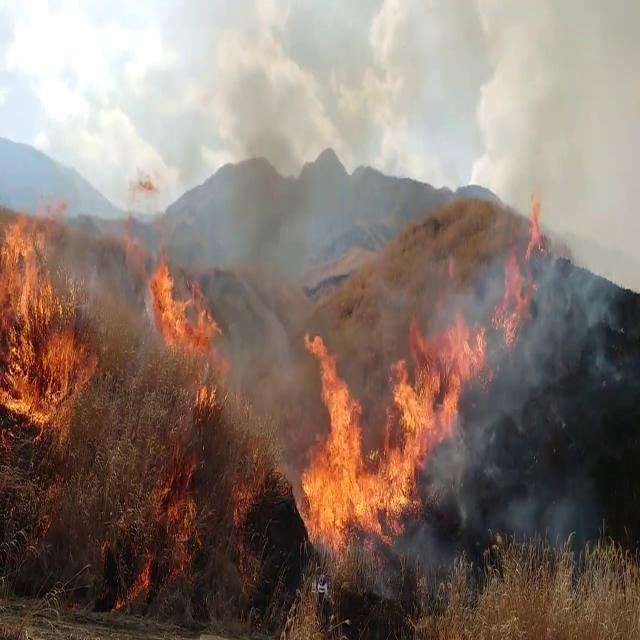Fire: (286, 323, 410, 584), (0, 199, 96, 429), (386, 289, 488, 489), (145, 238, 226, 408), (496, 184, 548, 348)
Smoke: (174, 0, 446, 410), (456, 44, 640, 428)
